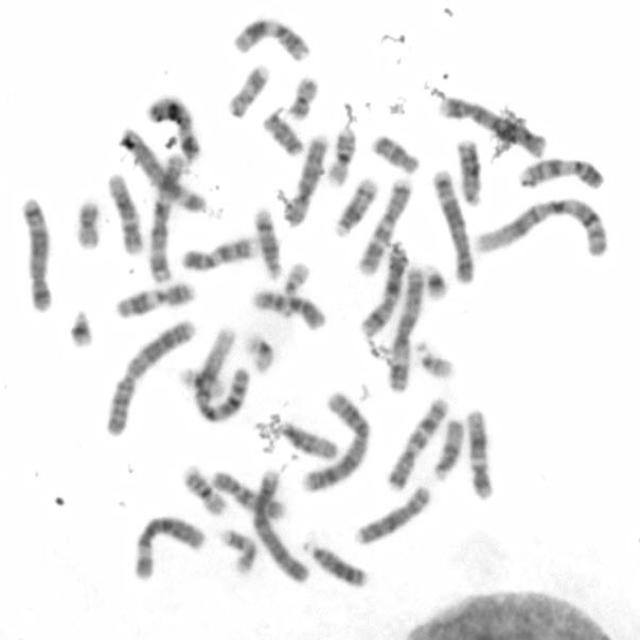A1: (474, 198, 609, 257), (192, 325, 251, 426)
A2: (105, 317, 198, 438), (299, 389, 372, 494)
A3: (386, 264, 425, 392), (148, 153, 186, 281)
B4: (251, 465, 312, 584), (438, 97, 548, 160)
B5: (433, 168, 476, 287), (21, 196, 54, 312)
C10: (211, 468, 288, 522), (251, 288, 329, 332)
C11: (232, 17, 311, 62), (116, 281, 202, 320)
C12: (107, 171, 146, 258), (464, 408, 496, 500)
C6: (120, 126, 210, 212), (134, 512, 206, 586)
C7: (385, 395, 449, 490), (356, 177, 413, 280)
C8: (353, 486, 431, 547), (280, 136, 330, 230)
C9: (515, 155, 606, 191), (181, 237, 259, 273)
D13: (301, 540, 372, 590), (454, 138, 482, 205)
D14: (333, 176, 378, 238), (252, 210, 283, 283)
D15: (278, 421, 340, 463), (430, 418, 465, 482)
E16: (183, 461, 229, 517), (324, 126, 357, 188)
E17: (228, 61, 271, 121), (222, 527, 258, 577)
E18: (371, 132, 421, 175), (263, 112, 305, 160)
F19: (176, 364, 226, 401), (246, 333, 275, 374)
F20: (287, 76, 320, 121), (75, 199, 103, 251)
G21: (68, 306, 94, 354), (423, 261, 449, 303)
G22: (282, 260, 312, 318), (416, 338, 454, 381)
X: (359, 248, 409, 338), (146, 97, 204, 161)
